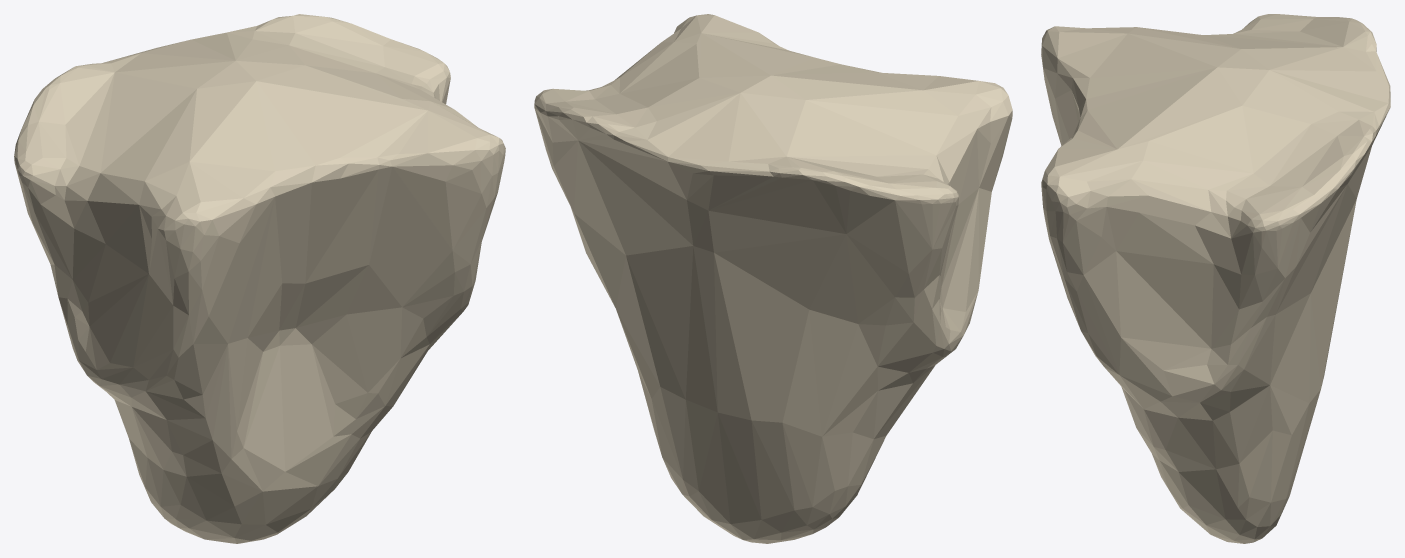
The model's file is thorax-context-mobile.glb.
The picture shows the model from 3 angles, left to right: view 1: azimuth 30°, elevation 25°; view 2: azimuth 150°, elevation 25°; view 3: azimuth 270°, elevation 25°; orthographic projection. The views are drawn at different scales.
Visible parts, largest first — view 1: za.xiphoid-process; view 2: za.xiphoid-process; view 3: za.xiphoid-process.
Part boxes in pixels (x1,y1,x2,y2): za.xiphoid-process: (14, 14, 505, 543); za.xiphoid-process: (534, 14, 1012, 543); za.xiphoid-process: (1041, 14, 1390, 543).
Size of the model in its own units: 0.0217 by 0.0227 by 0.0154.
